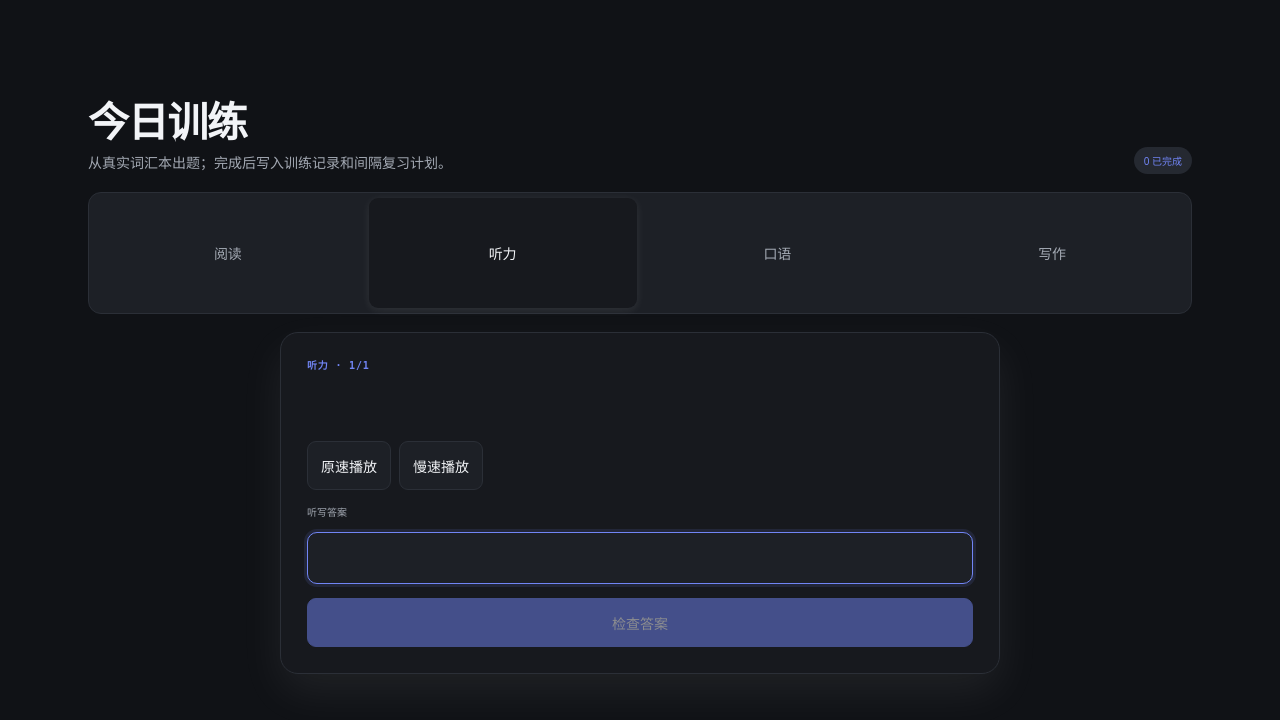
language practice › listening practice uses system speech and checks a typed answer
The width and height of the screenshot is (1280, 720).
Expected: the field labelled "听写答案" is shown, [307,532,973,584]
Click the button "原速播放".
click(349, 466)  # box [307,441,391,490]
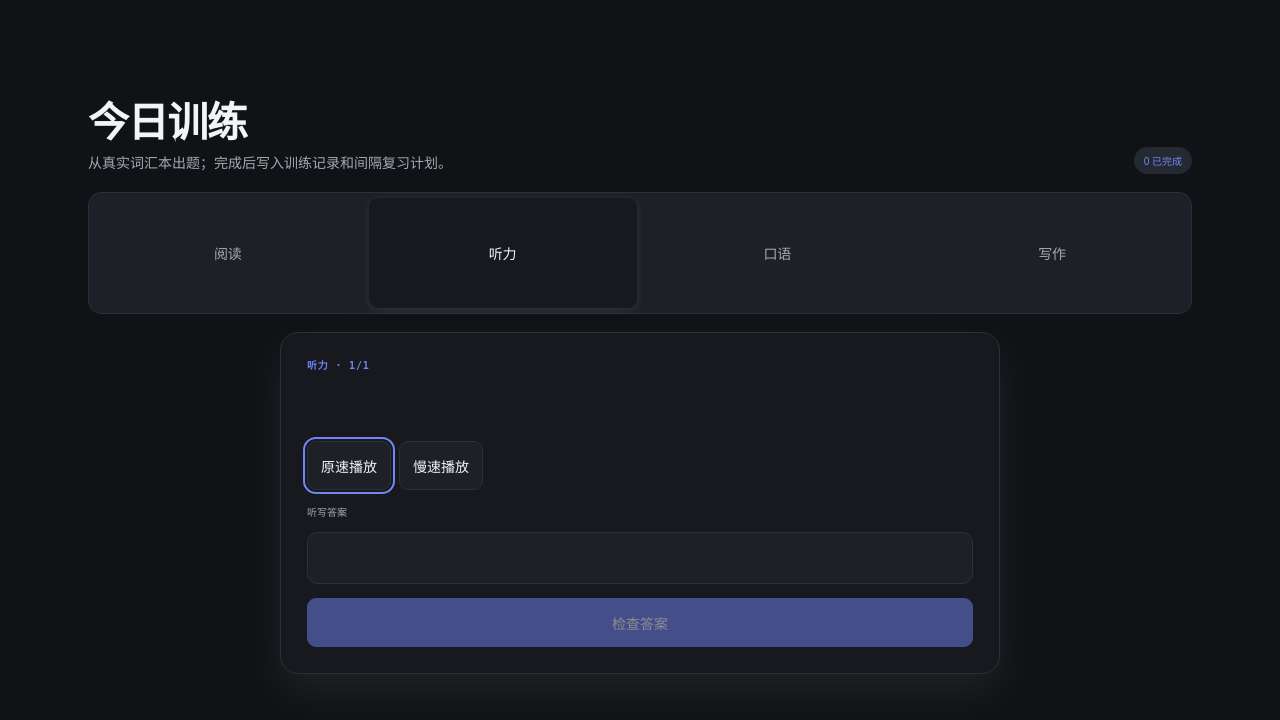
Type "curious" into the field labelled "听写答案".
click(640, 558); type("curious")  # box [307,532,973,584]
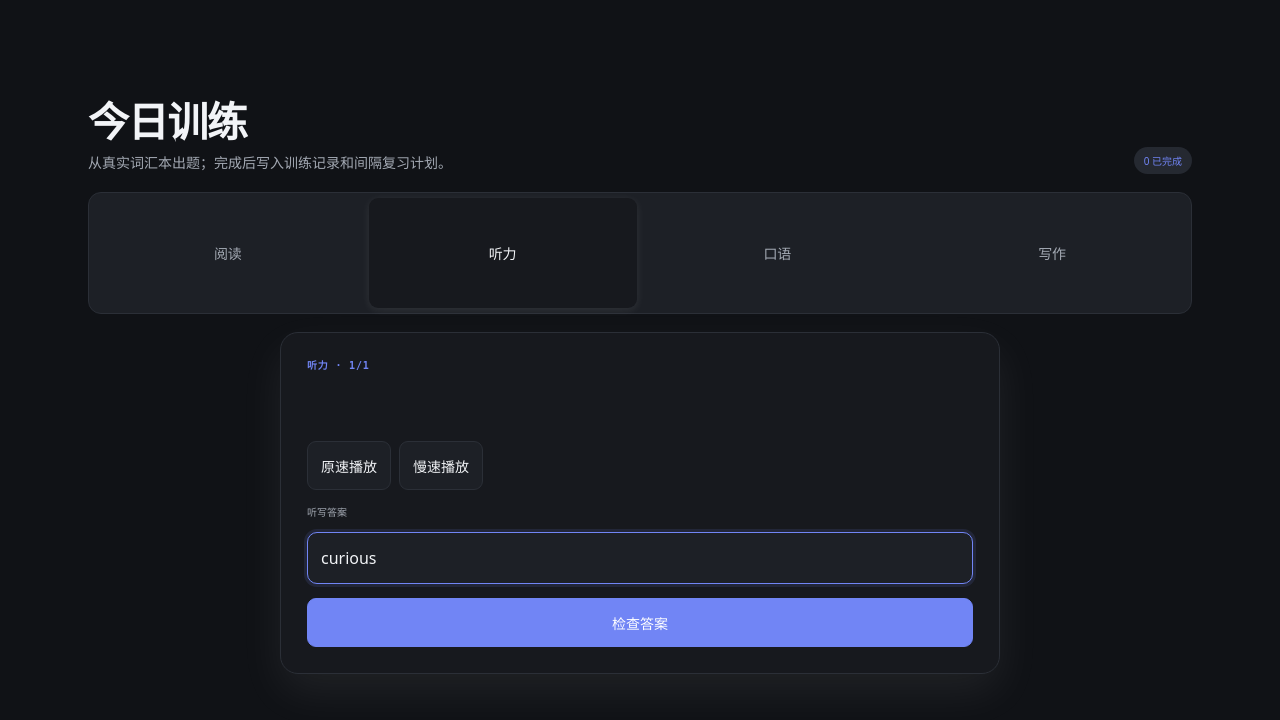
Click the button "检查答案".
click(640, 623)  # box [307,598,973,647]
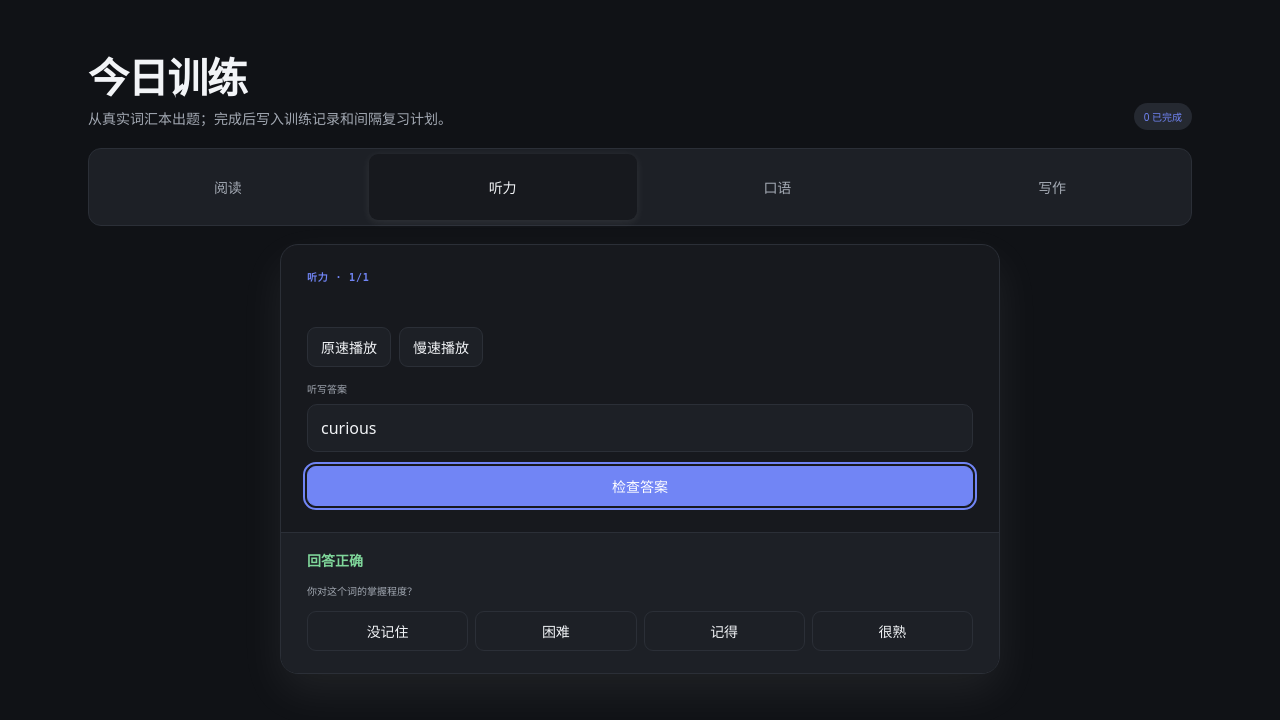
Expected: the text "回答正确" is shown, [307,551,363,570]
